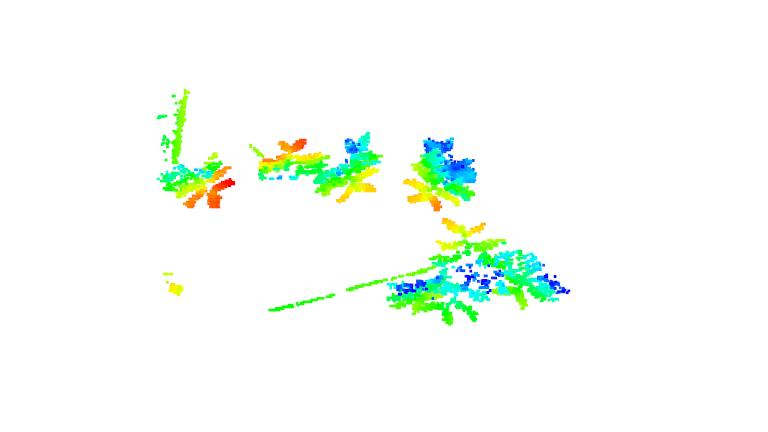chickpea: (428, 217, 508, 309), (476, 250, 574, 321), (400, 138, 479, 214), (311, 131, 385, 206), (159, 147, 236, 216), (251, 135, 329, 188), (384, 269, 453, 324)
